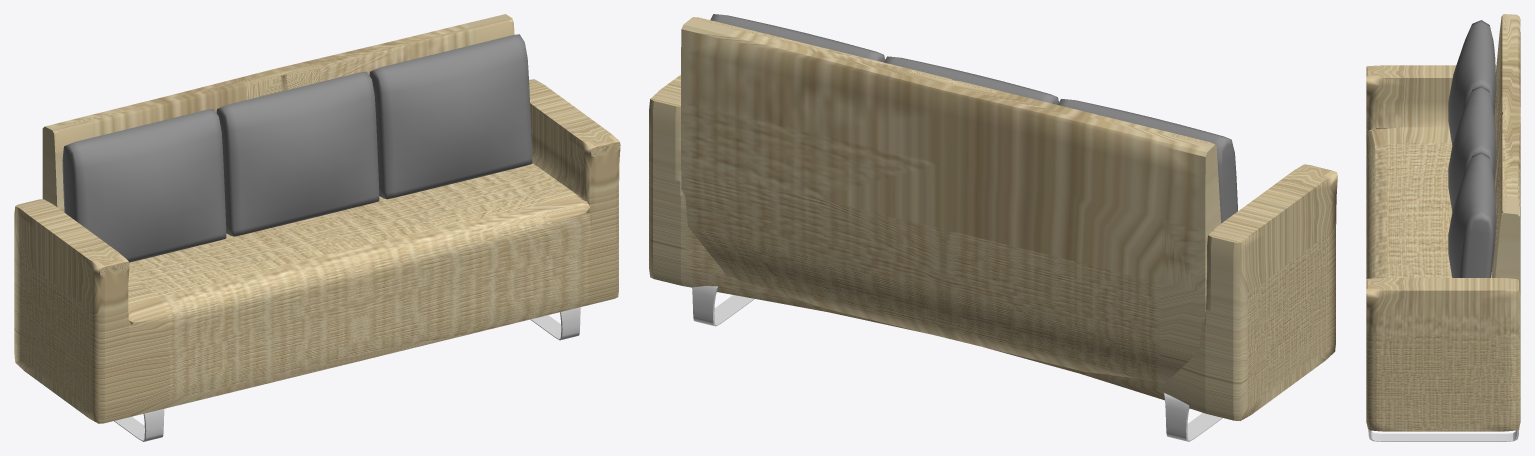
File: Sofa trio.fbx
The picture shows the model from 3 angles, left to right: view 1: azimuth 30°, elevation 25°; view 2: azimuth 150°, elevation 25°; view 3: azimuth 270°, elevation 25°; orthographic projection. The views are drawn at different scales.
Parts seen in each view (by area): view 1: Sofa, Pillow, stand; view 2: Sofa, Pillow, stand; view 3: Sofa, Pillow, stand.
Part boxes in pixels (x1,y1,x2,y2): Sofa: (14, 14, 620, 423); Pillow: (62, 34, 532, 262); stand: (114, 307, 580, 441); Sofa: (649, 17, 1337, 420); Pillow: (710, 14, 1237, 223); stand: (692, 286, 1222, 441); Sofa: (1366, 14, 1520, 431); Pillow: (1448, 20, 1496, 277); stand: (1368, 428, 1519, 441).
Bounding box in the file's own units: 260 × 126 × 75.42.
Materials: 3 (1 with a texture image).
